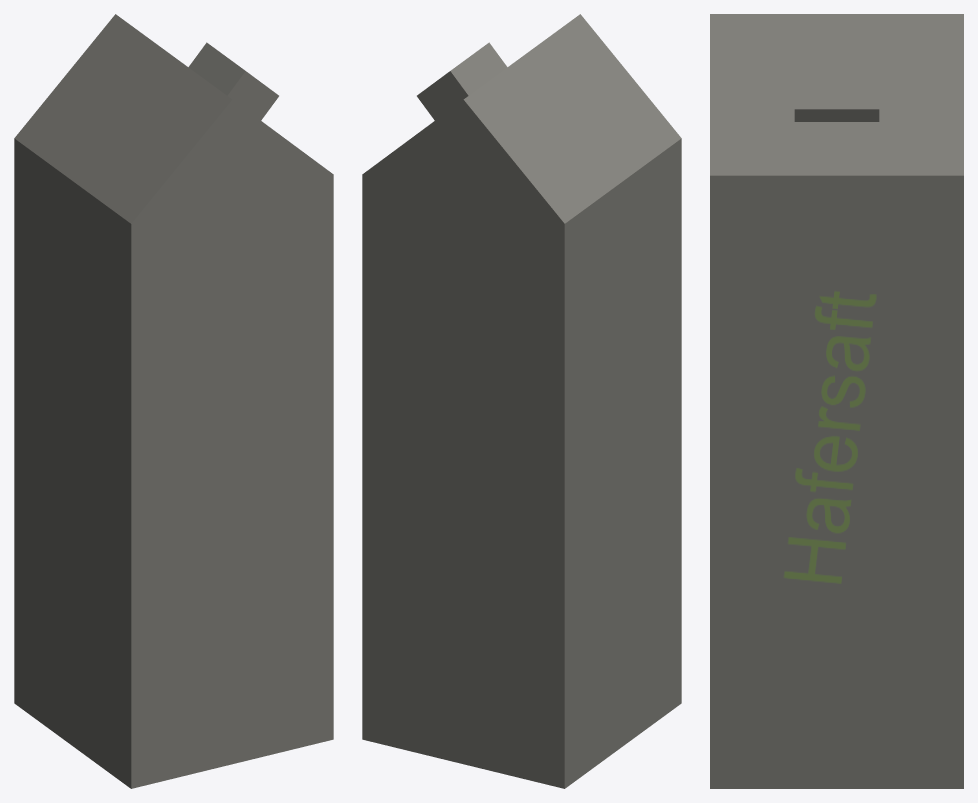
Rendered from Hafersaft.fbx.
3 renders of one model, left to right at view 1: azimuth 30°, elevation 25°; view 2: azimuth 150°, elevation 25°; view 3: azimuth 270°, elevation 25°, orthographic. The views are drawn at different scales.
Parts seen in each view (by area): view 1: Cube; view 2: Cube; view 3: Cube.
Boxes of the visible parts, x1,y1,x2,y2 form: Cube: (14, 14, 333, 788); Cube: (362, 14, 681, 788); Cube: (710, 14, 963, 788).
Size of the model in its own units: 15 by 47.05 by 15.
